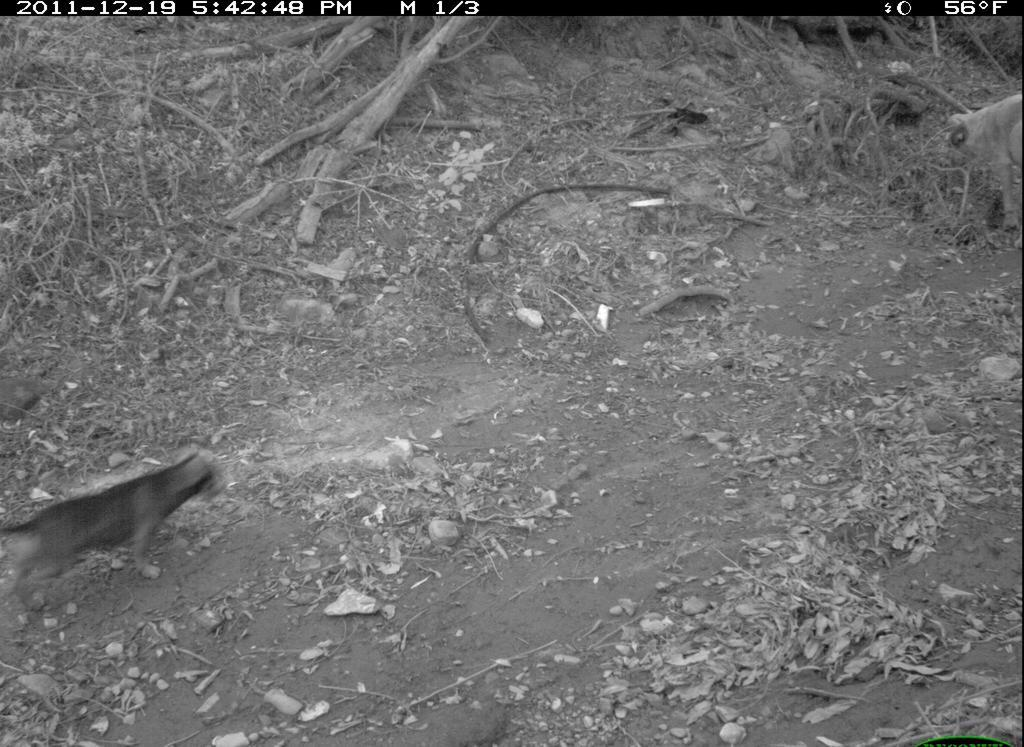dog: (7, 454, 226, 616)
